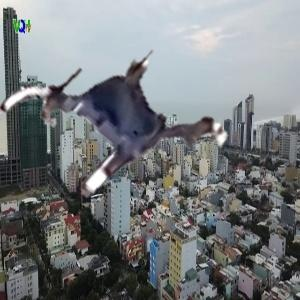drone: (7, 10, 229, 232)
